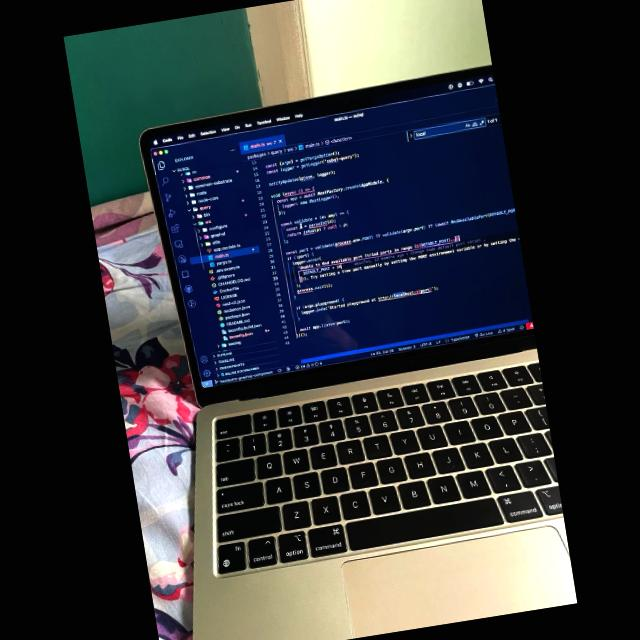laptop: (84, 57, 575, 640)
